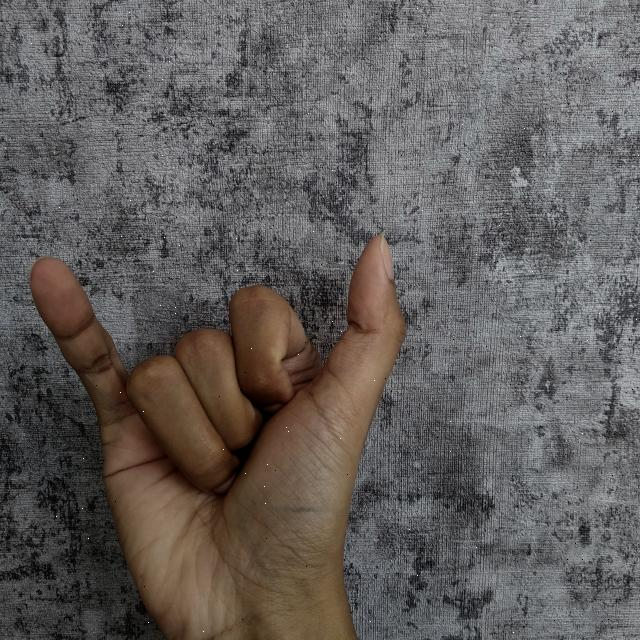Y: (21, 226, 410, 640)
